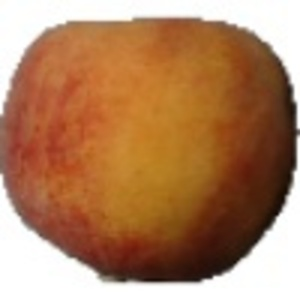pêssego: (1, 15, 300, 285)
